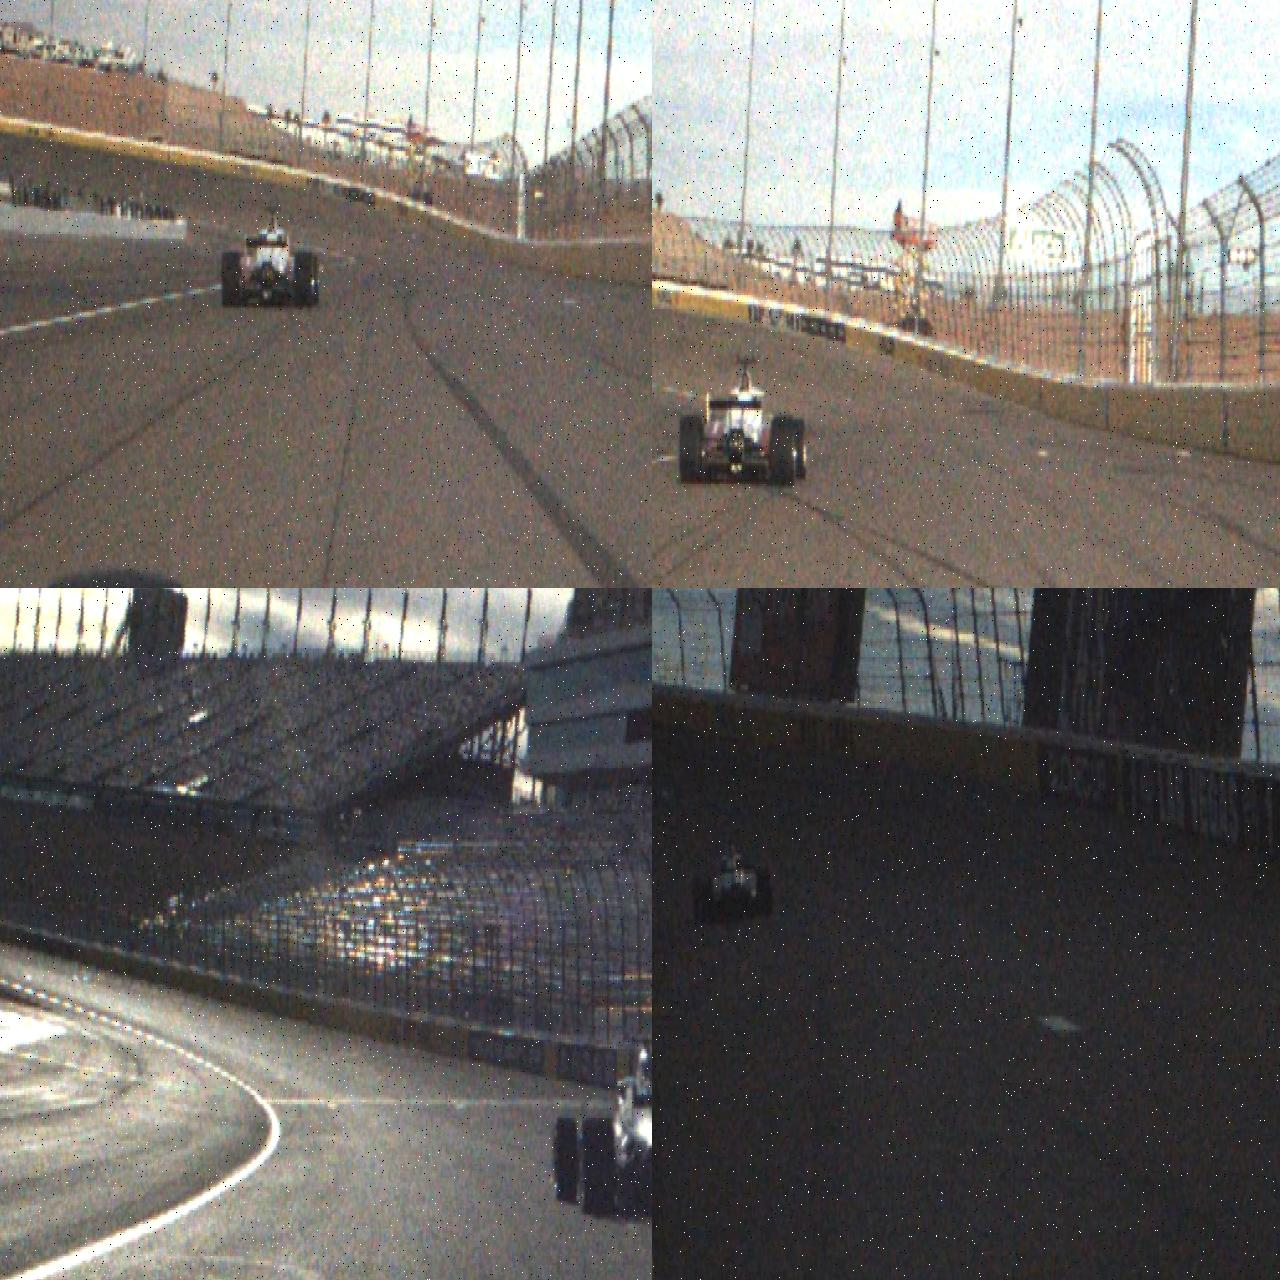AV: (551, 1036, 652, 1222), (679, 356, 807, 486), (222, 204, 320, 308), (690, 838, 774, 926)
Wheel: (579, 1117, 615, 1213), (552, 1117, 578, 1203), (770, 416, 796, 486), (680, 414, 704, 485), (222, 252, 242, 308), (788, 420, 806, 480), (296, 250, 314, 308), (758, 871, 774, 918), (696, 879, 712, 925), (308, 255, 320, 303)
